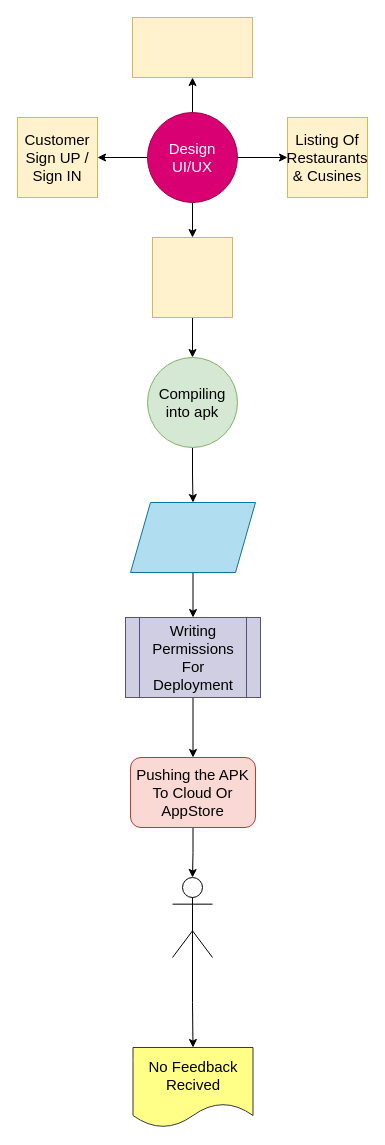
Some shapes in this 385 by 1145 pixel diagram are drawn without their labels. The box of each missing label's shape, as (x1, y1, x2, y2) in pixels:
Checkout Page & RTS: (152, 236, 232, 318)
Customer Using Application: (172, 876, 212, 958)
No Bugs Found: (130, 502, 256, 572)
Vishaka Food s: (132, 16, 252, 78)
